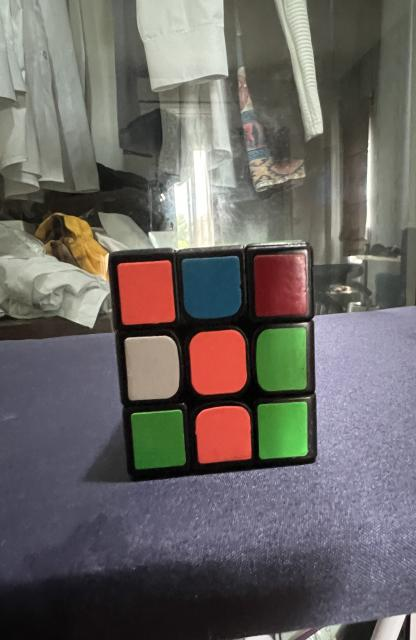Blue: (182, 256, 242, 319)
Green: (131, 409, 186, 470), (256, 328, 307, 391), (258, 401, 308, 459)
Orange: (117, 260, 176, 325), (190, 330, 247, 395), (195, 406, 251, 464)
Red: (254, 252, 307, 316)
White: (125, 335, 180, 401)
